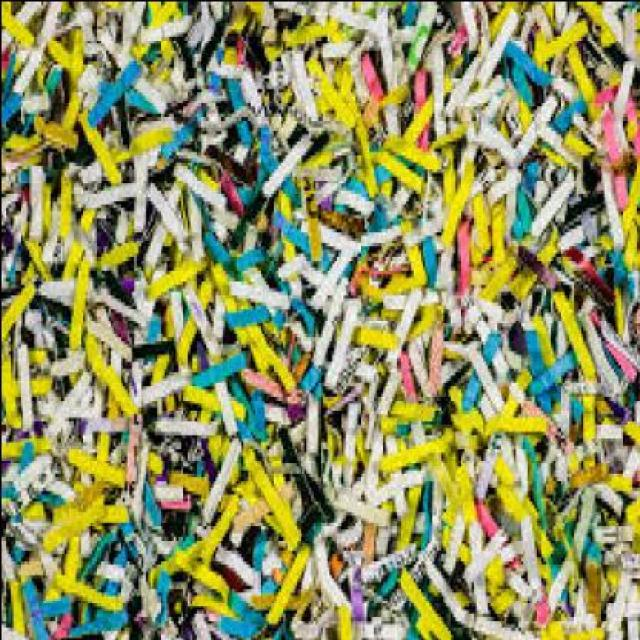PAPER: (0, 1, 638, 638)
